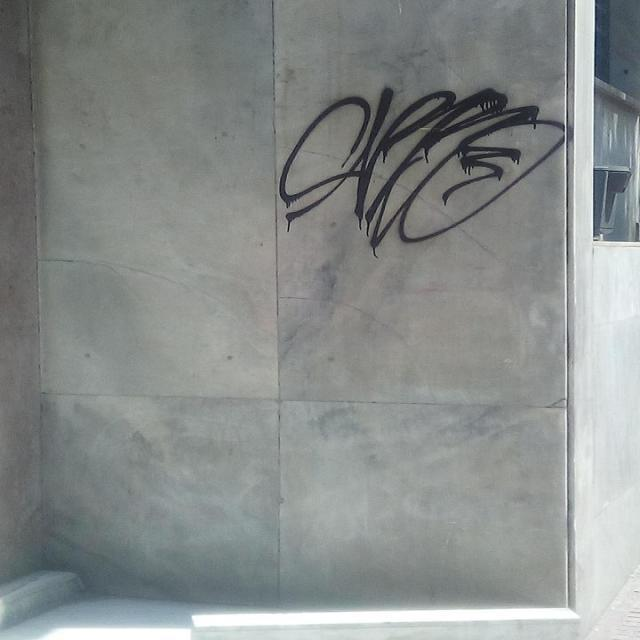nonspitting: (277, 87, 571, 246)
